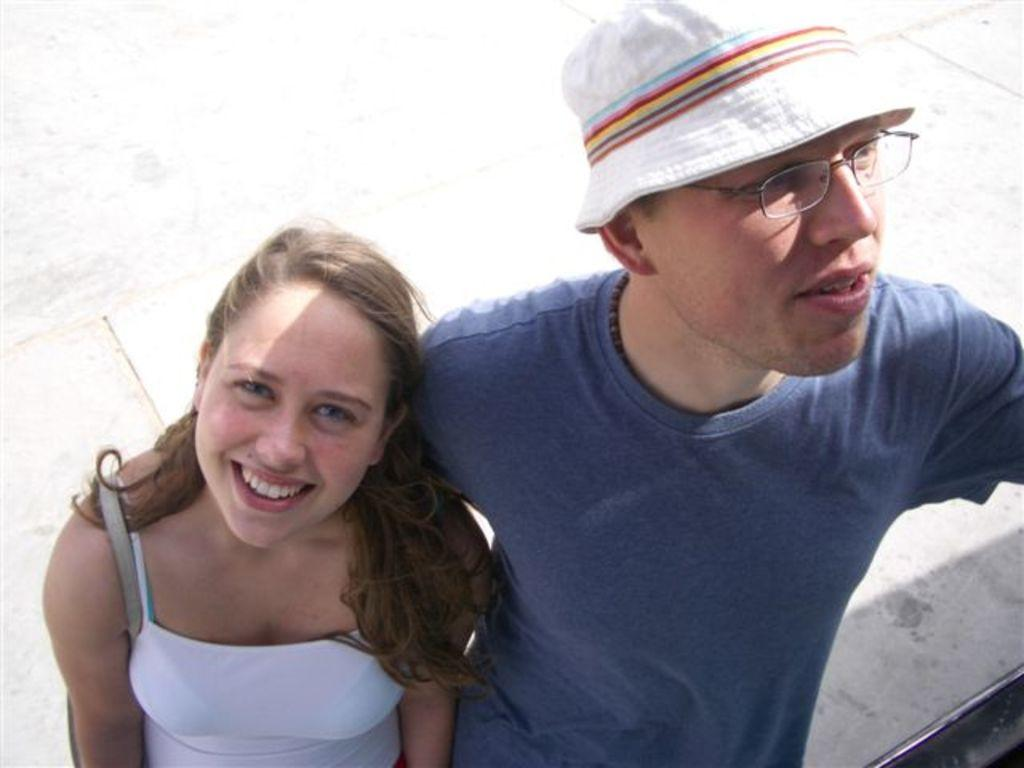Hat: (558, 0, 915, 236)
